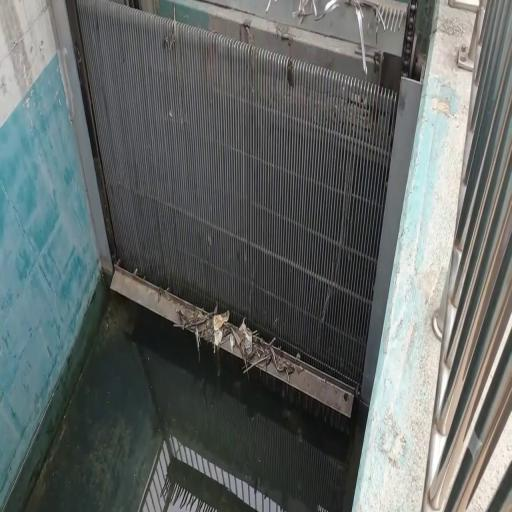rake: (65, 1, 423, 412)
